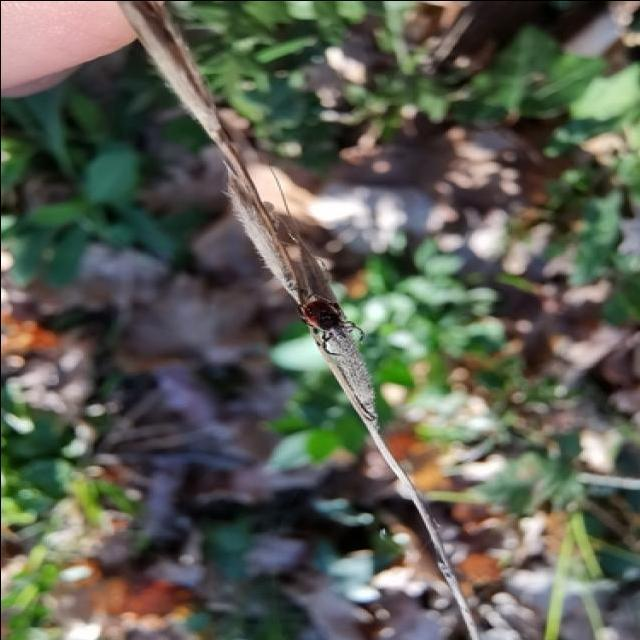Ixodes Ricinus-F: (294, 292, 362, 356)
